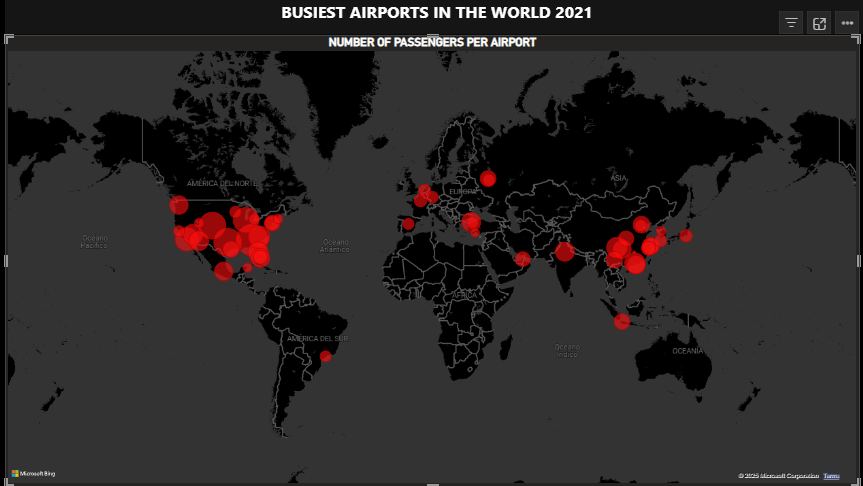

Layout of this report page (visuals, bound fields, positions):
{"tool":"powerbi","page":{"name":"Página 1","canvas":[1280,720],"ordinal":0},"visuals":[{"type":"textbox","box":[10.1,0,1269.9,55.4],"z":0},{"type":"map","title":"NUMBER OF PASSENGERS PER AIRPORT","fields":{"Category":["Tabla 4.Location"],"Size":["Sum(Tabla 4.Totalpassengers)"]},"box":[10.3,55.8,1256.3,664.2],"z":1}]}

Visuals, with their boxes on the page's 1280x720 design canvas (x1, y1, x2, y2). These are canvas units, not pixel positions in the 863x486 screenshot, which may show the page scaled, cropped or inside an application window:
textbox: [10,0,1280,55]
"NUMBER OF PASSENGERS PER AIRPORT" map: [10,56,1267,720]
